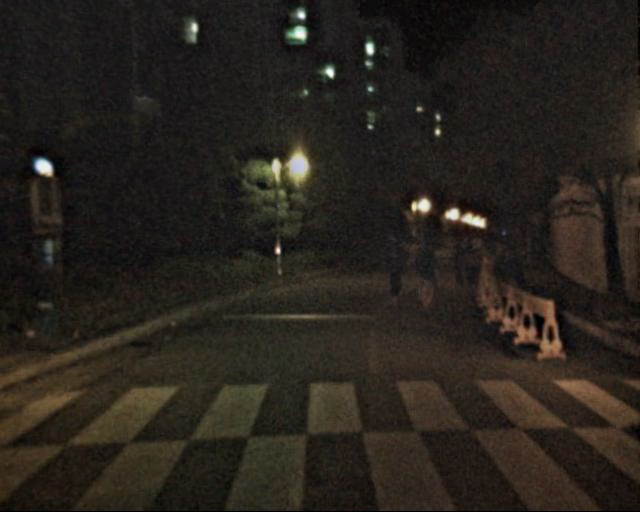person: (376, 233, 408, 311), (408, 231, 440, 309), (457, 237, 479, 291), (445, 237, 467, 290)
